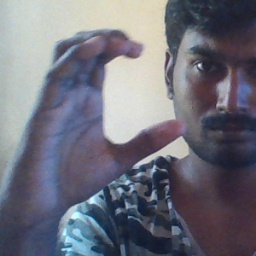C: (57, 26, 190, 170)
